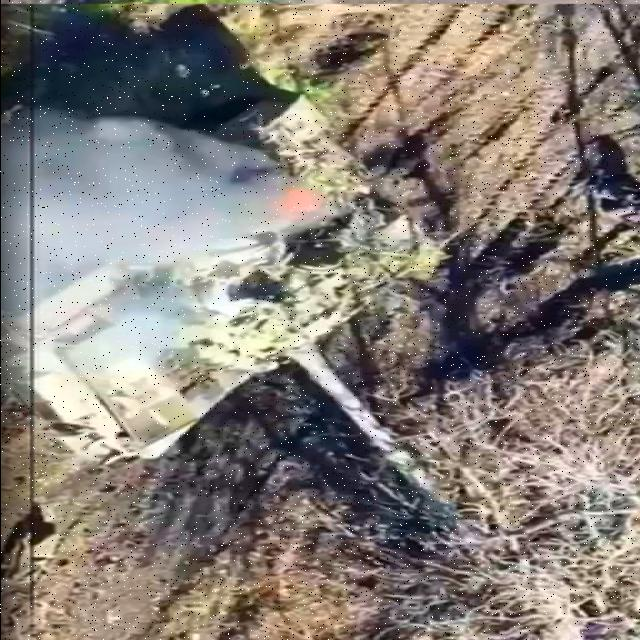TANK: (4, 79, 484, 531)
